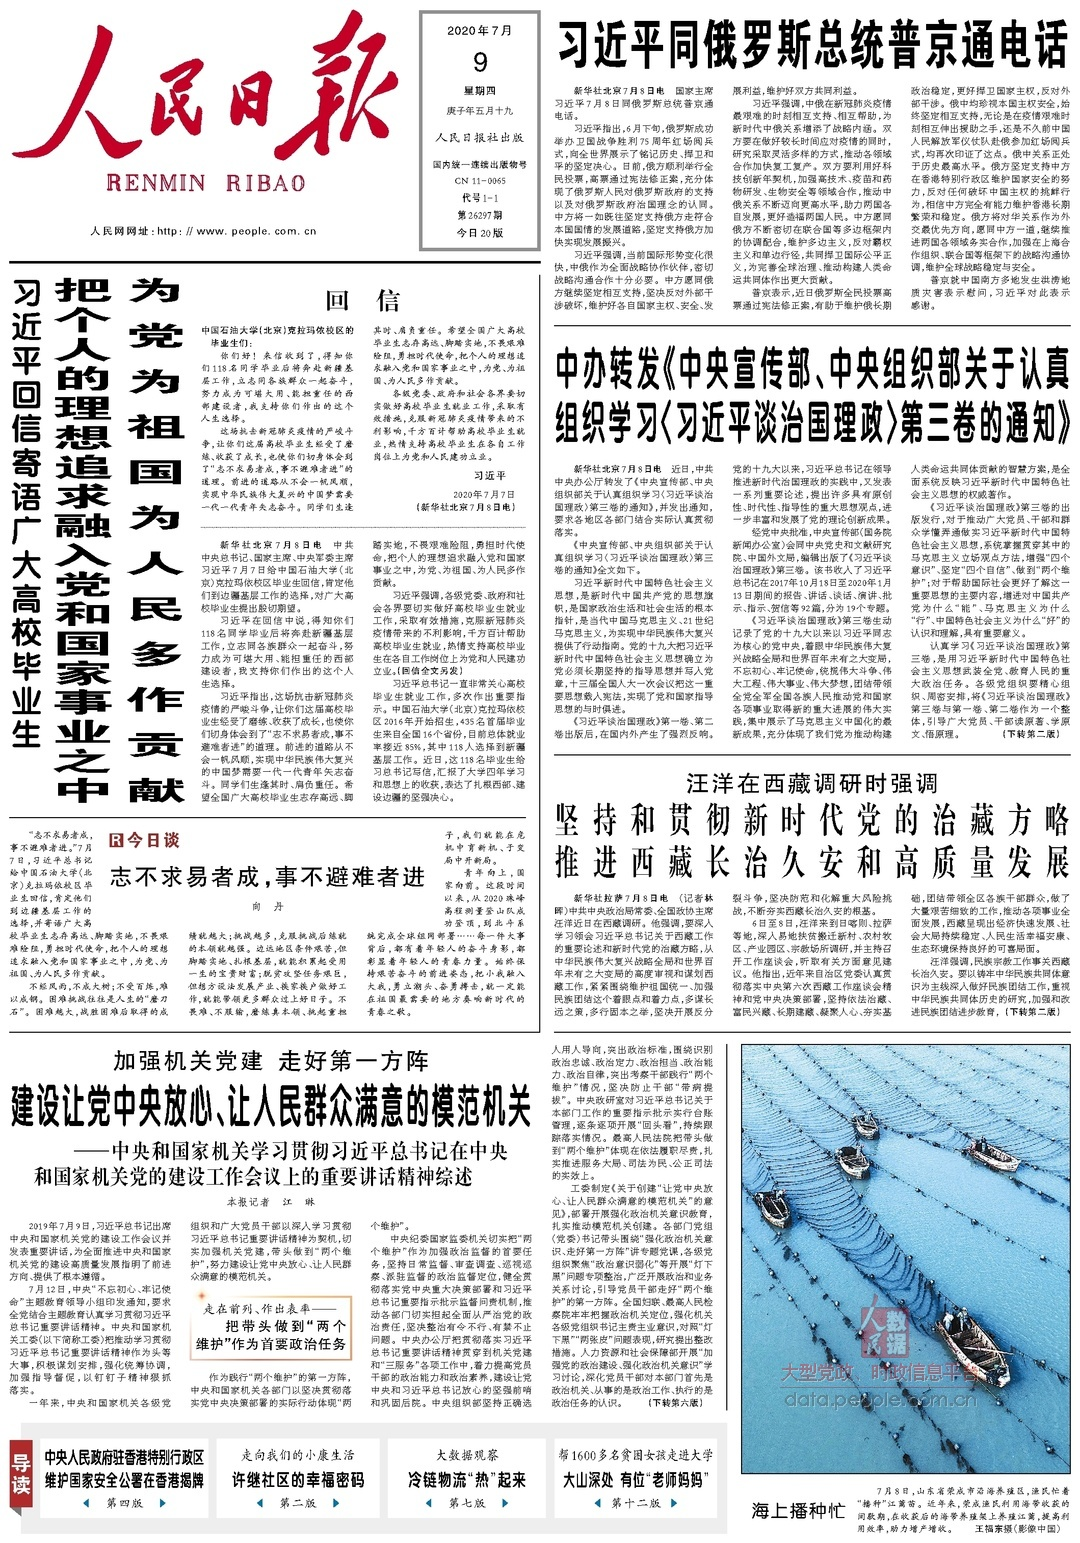pic: (734, 1038, 1076, 1481)
